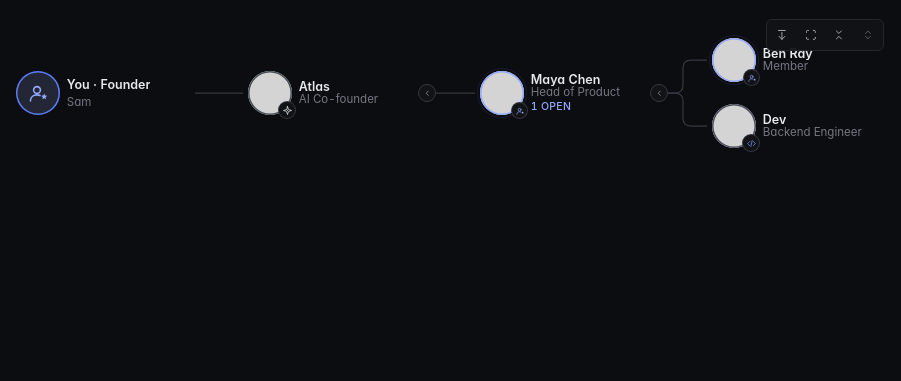
Test: human members in the org tree › the hover card lists their open tasks only, and links to them
Hover over the button with aria-label "Maya Chen," at {"x": 567, "y": 93}, box [475,65,659,121]
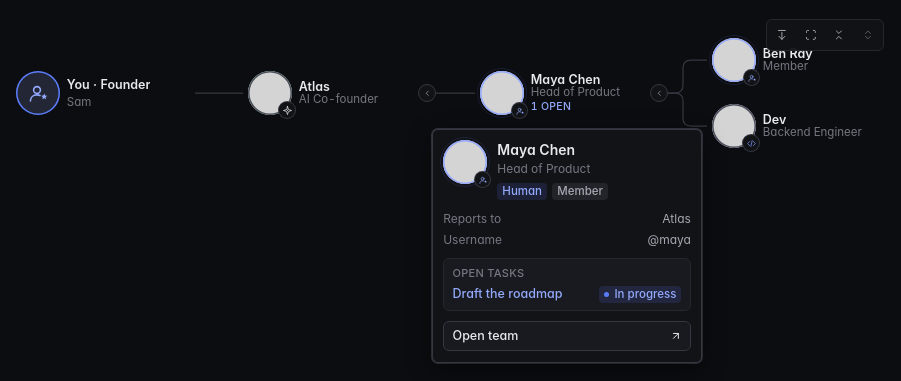
Expected: the button "Draft the roadmap" is shown, [453,285,593,303]
Expected: the text "In progress" is shown, [599,286,682,303]
